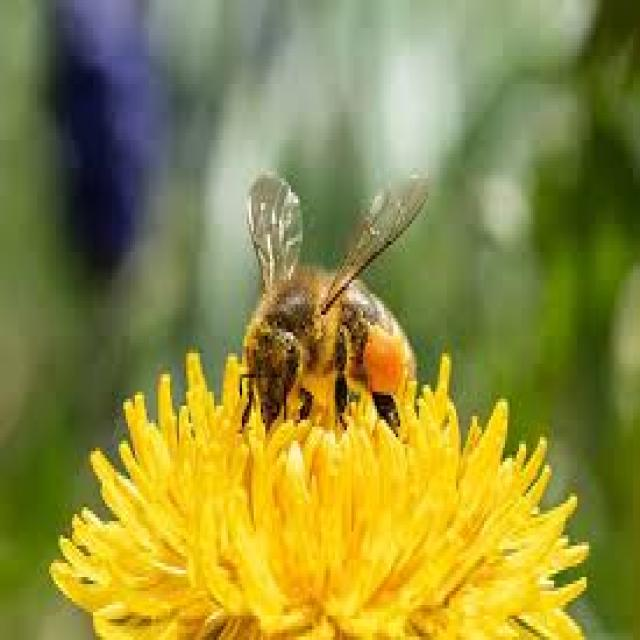Bees: (238, 171, 430, 445)
